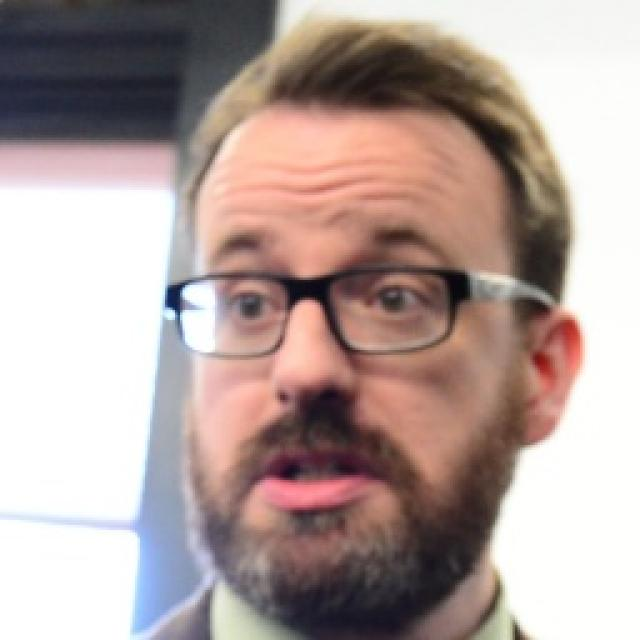glasses: (142, 262, 564, 368)
